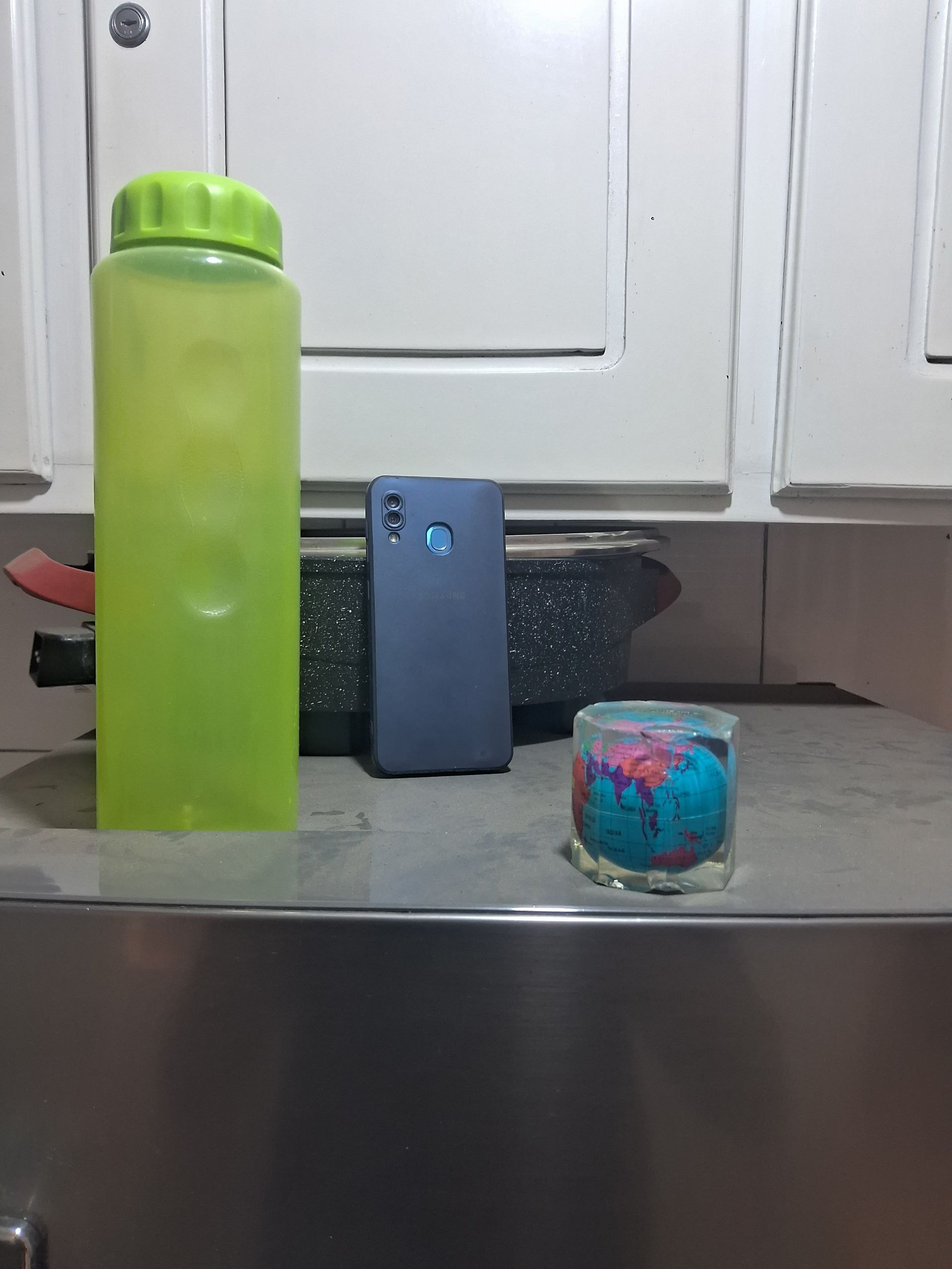Smart_phone: (353, 465, 521, 783)
Water_bottle: (78, 167, 315, 843)
world_globe: (557, 687, 755, 900)
